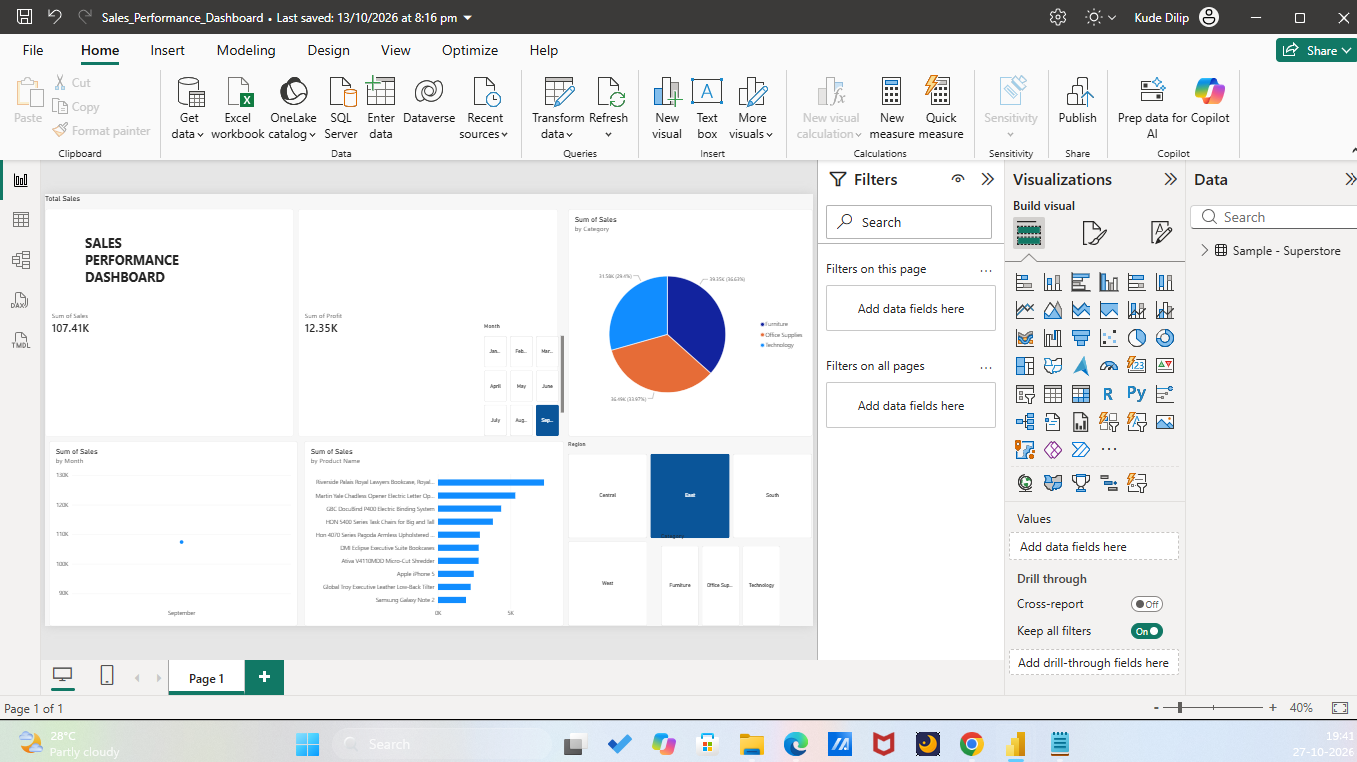

The dashboard page shown, as its layout file describes it:
{"tool":"powerbi","page":{"name":"Page 1","canvas":[1920,1080],"ordinal":0},"visuals":[{"type":"cardVisual","title":"Total Sales","fields":{"Data":["Sum(Sample - Superstore.Sales)"]},"box":[0,0,622.4,607.2],"z":0},{"type":"cardVisual","fields":{"Data":["Sum(Sample - Superstore.Profit)"]},"box":[631.7,38.3,650.1,569.4],"z":1},{"type":"lineChart","fields":{"Category":["Sample - Superstore.Order Date.Variation.Date Hierarchy.Year","Sample - Superstore.Order Date.Variation.Date Hierarchy.Month"],"Y":["Sum(Sample - Superstore.Sales)"]},"box":[10,617,622,463],"z":2},{"type":"clusteredBarChart","fields":{"Category":["Sample - Superstore.Product Name"],"Y":["Sum(Sample - Superstore.Sales)"]},"box":[648,617,650,463],"z":3},{"type":"pieChart","fields":{"Category":["Sample - Superstore.Category"],"Y":["Sum(Sample - Superstore.Sales)"]},"box":[1308,38,612,569],"z":4},{"type":"advancedSlicerVisual","fields":{"Values":["Sample - Superstore.Region"]},"box":[1308,617,612,463],"z":5},{"type":"advancedSlicerVisual","fields":{"Values":["Sample - Superstore.Category"]},"box":[1540,847.5,300,232.5],"z":6},{"type":"advancedSlicerVisual","fields":{"Values":["Sample - Superstore.Order Date.Variation.Date Hierarchy.Month"]},"box":[1097.5,322.5,200,284.3],"z":7},{"type":"textbox","box":[100,100,306.7,300],"z":8}]}

Visuals, with their boxes on the page's 1920x1080 design canvas (x1, y1, x2, y2). These are canvas units, not pixel positions in the 1357x762 screenshot, which may show the page scaled, cropped or inside an application window:
"Total Sales" cardVisual: [0,0,622,607]
cardVisual - Sum(Sample - Superstore.Profit): [632,38,1282,608]
lineChart - Sample - Superstore.Order Date.Variation.Date Hierarchy.Year x Sample - Superstore.Order Date.Variation.Date Hierarchy.Month: [10,617,632,1080]
clusteredBarChart - Sample - Superstore.Product Name x Sum(Sample - Superstore.Sales): [648,617,1298,1080]
pieChart - Sample - Superstore.Category x Sum(Sample - Superstore.Sales): [1308,38,1920,607]
advancedSlicerVisual - Sample - Superstore.Region: [1308,617,1920,1080]
advancedSlicerVisual - Sample - Superstore.Category: [1540,848,1840,1080]
advancedSlicerVisual - Sample - Superstore.Order Date.Variation.Date Hierarchy.Month: [1098,322,1298,607]
textbox: [100,100,407,400]
